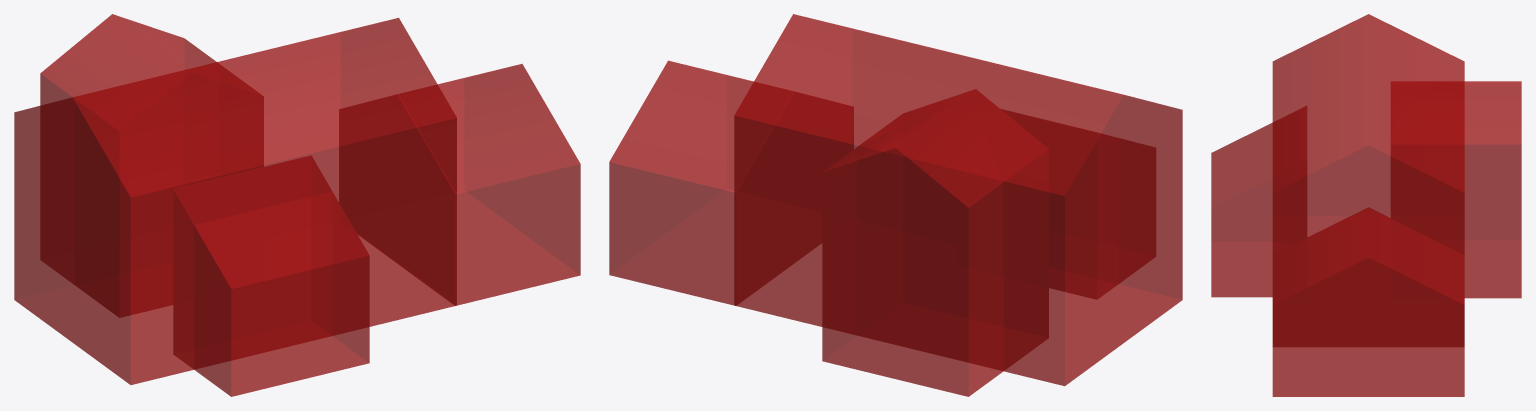
Rendered from SM_Bld_House_Preset_11_COLLISION.fbx.
3 views of the same model, side by side, from view 1: azimuth 30°, elevation 25°; view 2: azimuth 150°, elevation 25°; view 3: azimuth 270°, elevation 25° (orthographic). The views are drawn at different scales.
Visible parts, largest first — view 1: SM_Bld_House_Preset_11_COLLISION; view 2: SM_Bld_House_Preset_11_COLLISION; view 3: SM_Bld_House_Preset_11_COLLISION.
Boxes of the visible parts, left/top/right/bottom form: SM_Bld_House_Preset_11_COLLISION: left=14, top=14, right=580, bottom=396; SM_Bld_House_Preset_11_COLLISION: left=609, top=14, right=1182, bottom=396; SM_Bld_House_Preset_11_COLLISION: left=1211, top=14, right=1521, bottom=396.
Bounding box in the file's own units: 1800 × 938 × 1304.
